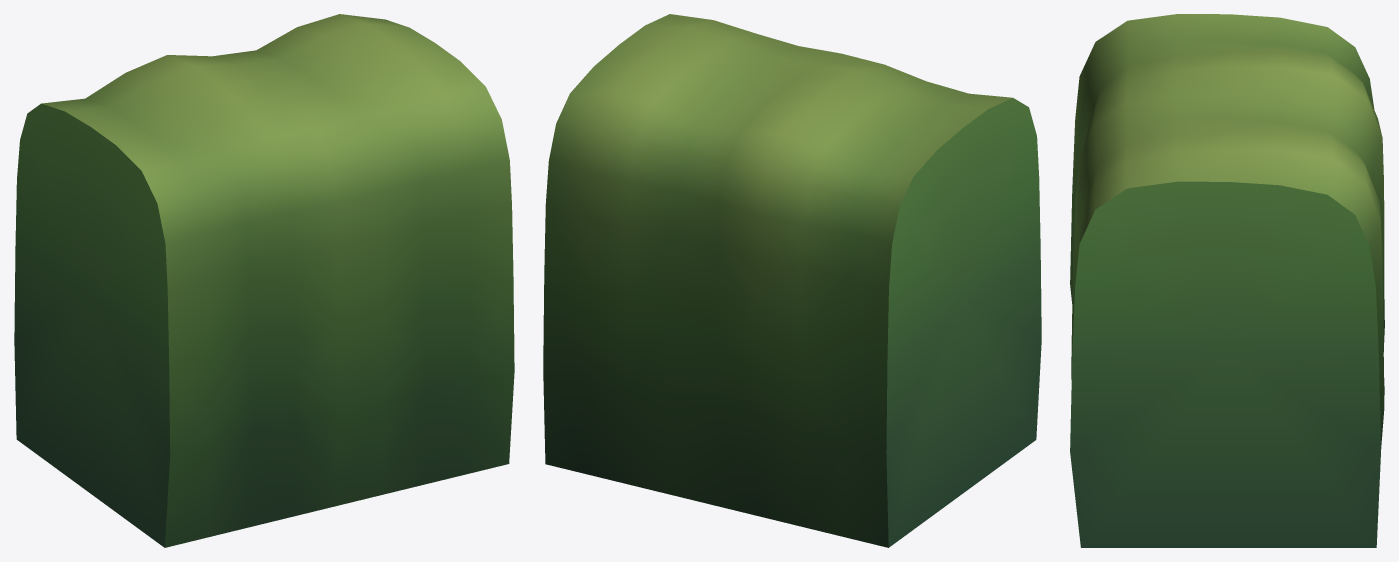
Rendered from HedgeBlock1.fbx.
3 views of the same model, side by side, from view 1: azimuth 30°, elevation 25°; view 2: azimuth 150°, elevation 25°; view 3: azimuth 270°, elevation 25° (orthographic).
Parts seen in each view (by area): view 1: HedgeBlock1; view 2: HedgeBlock1; view 3: HedgeBlock1.
Boxes of the visible parts, <box> form: HedgeBlock1: <box>14,14,514,547</box>; HedgeBlock1: <box>543,14,1041,547</box>; HedgeBlock1: <box>1070,14,1384,547</box>.
Size of the model in its own units: 1 by 1.05 by 0.7934.
